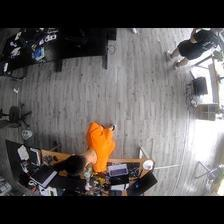normal: (165, 29, 223, 69)
